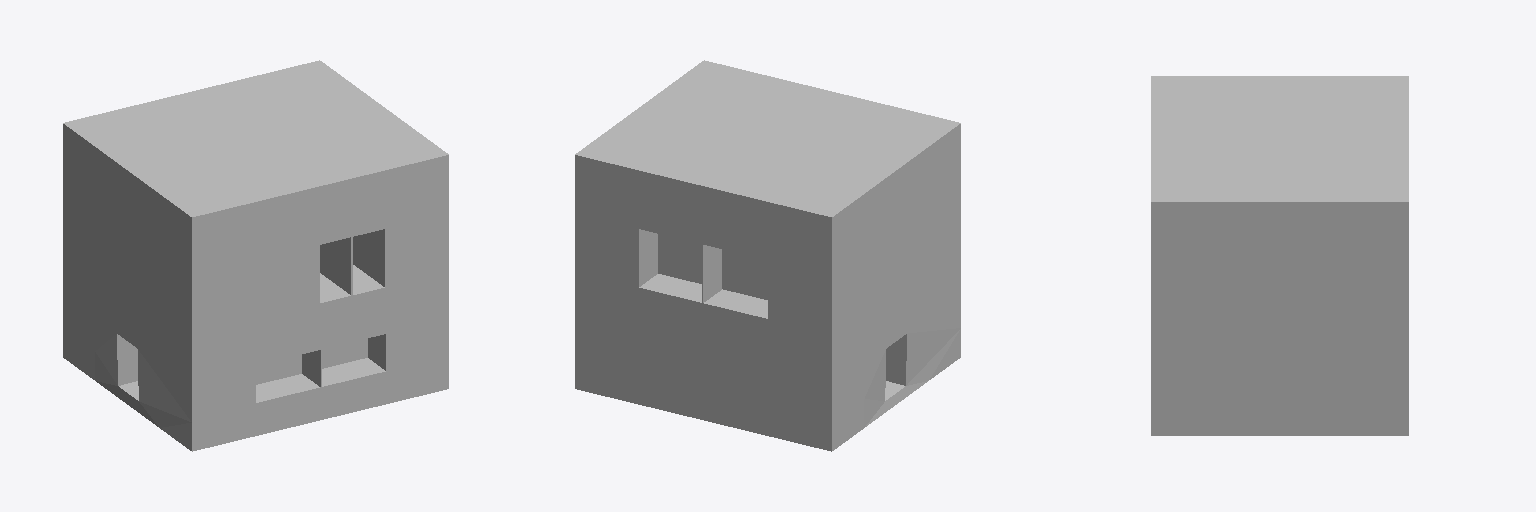
File: house62.obj
The picture shows the model from 3 angles: view 1: azimuth 30°, elevation 25°; view 2: azimuth 150°, elevation 25°; view 3: azimuth 270°, elevation 25°; orthographic projection.
Visible parts, largest first — view 1: 立方体.090; view 2: 立方体.090; view 3: 立方体.090.
Part boxes in pixels (x1,y1,x2,y2): 立方体.090: (63, 60, 448, 451); 立方体.090: (575, 60, 960, 451); 立方体.090: (1151, 76, 1408, 435).
Size of the model in its own units: 46 by 40 by 40.